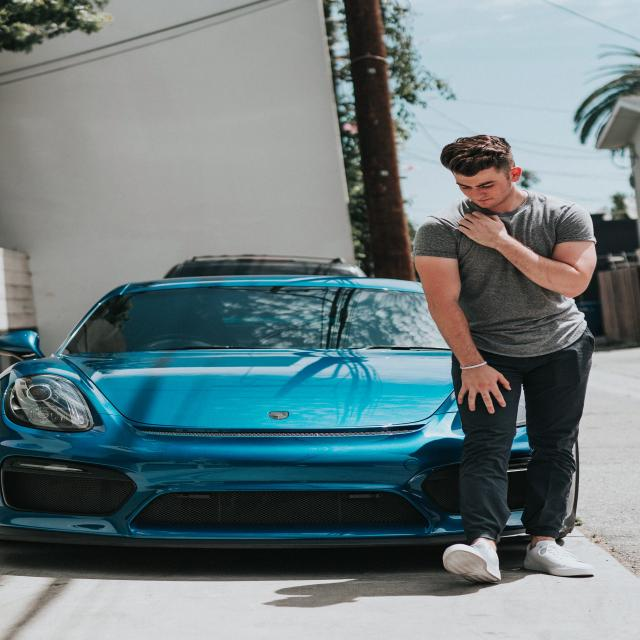adult: (413, 135, 593, 586)
